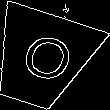O_S: (9, 28, 73, 91)
